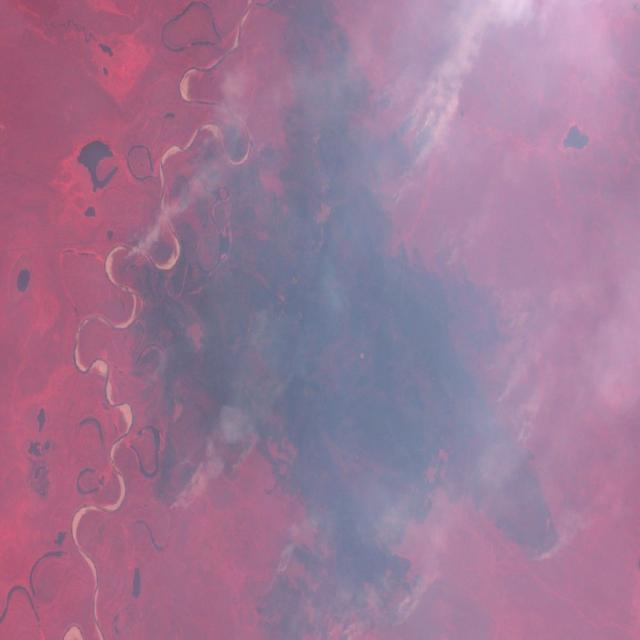fire: (379, 69, 442, 216), (494, 362, 537, 464), (260, 519, 308, 594), (520, 524, 570, 585), (158, 456, 198, 521), (382, 576, 426, 627), (113, 225, 147, 272)
